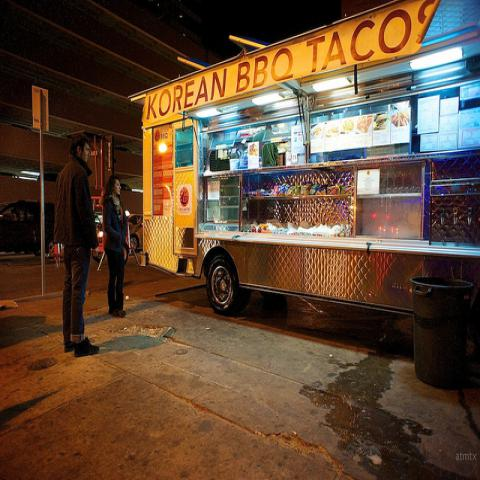car: (0, 200, 42, 256), (125, 210, 143, 252)
truck: (126, 0, 479, 341)
